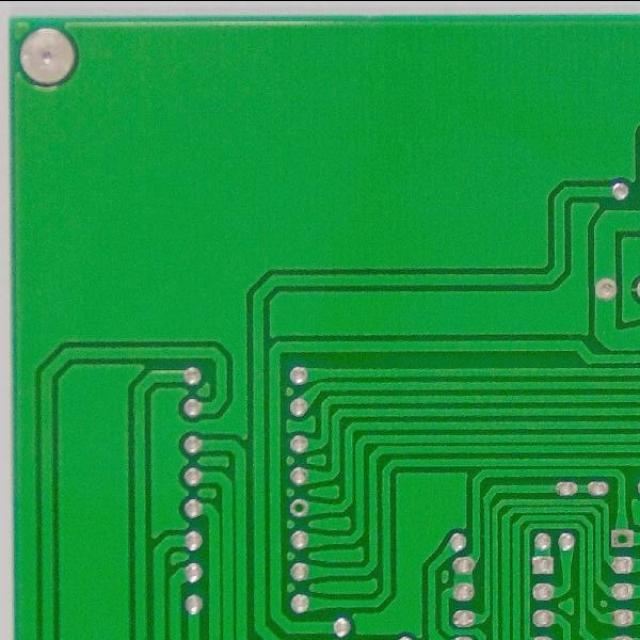Missing_Hole: (609, 526, 636, 548), (288, 497, 309, 518)
